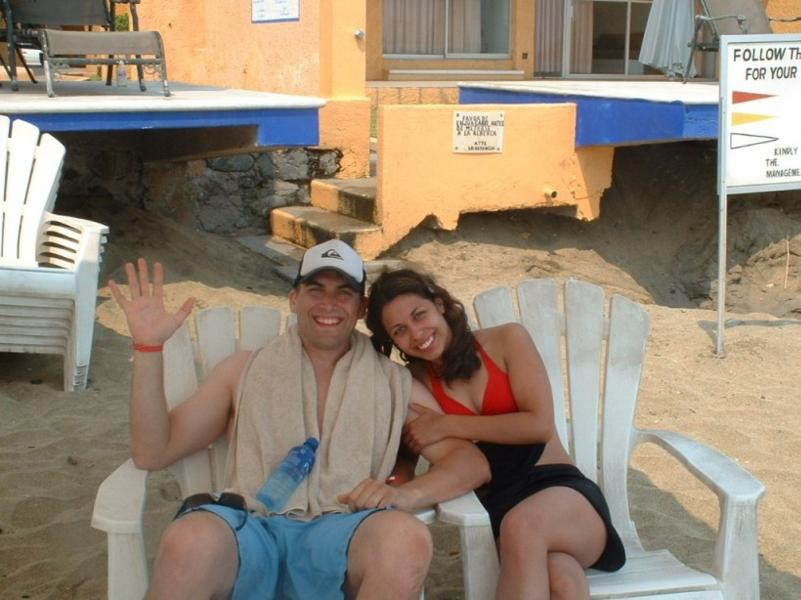person: (108, 240, 489, 600)
